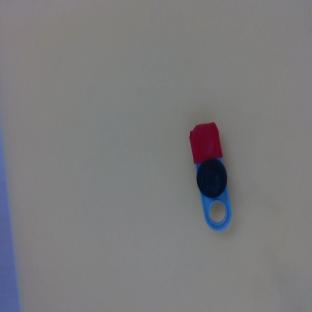part_1_good: (186, 121, 237, 233)
